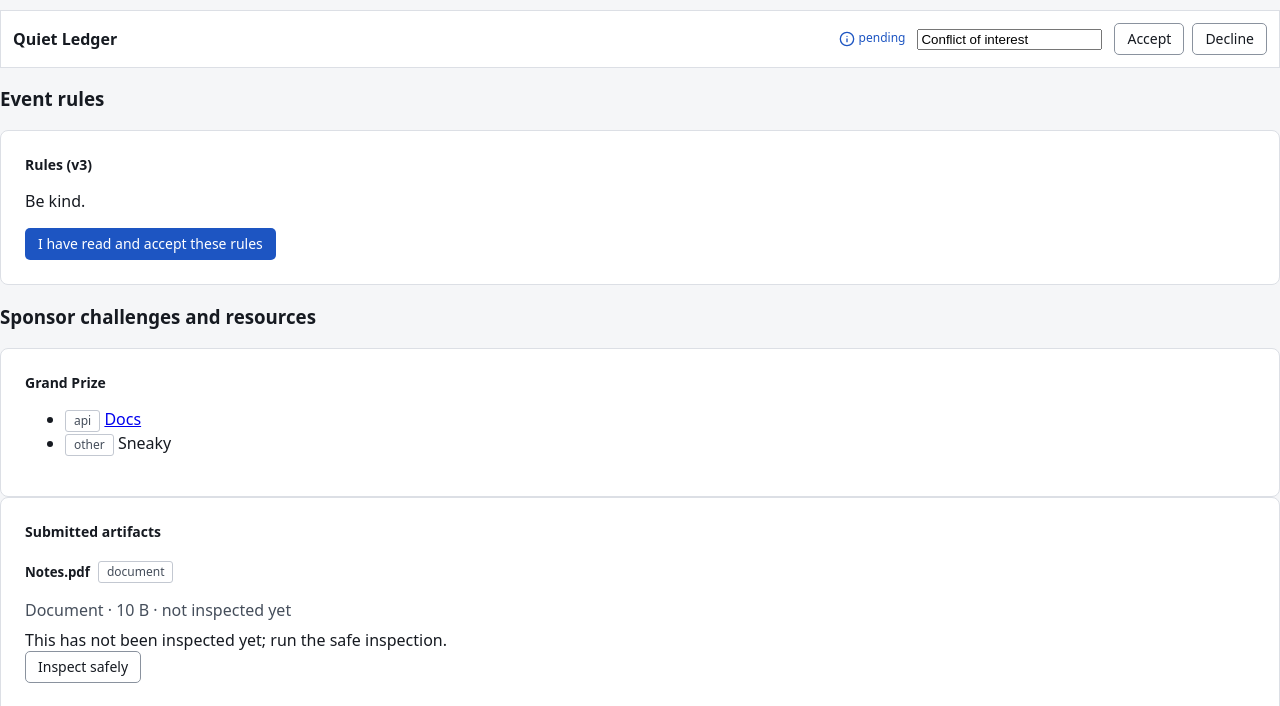
judge runs the artifact inspector and sees its verdict
(page scrolled)
Click the button "Inspect safely" at (83, 667), box [25, 651, 141, 683]
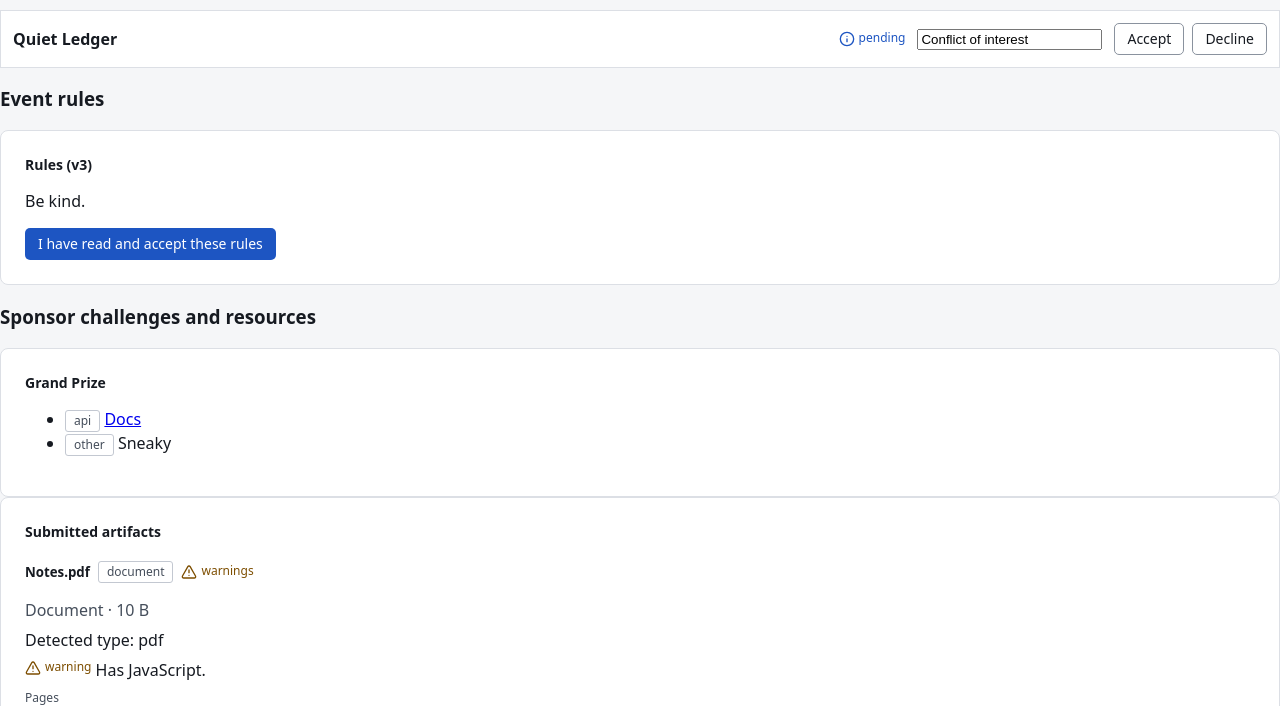
Expected: the text "Detected type: pdf" is shown, [25, 629, 163, 651]
Expected: the text "warnings" is shown, [182, 563, 254, 580]
